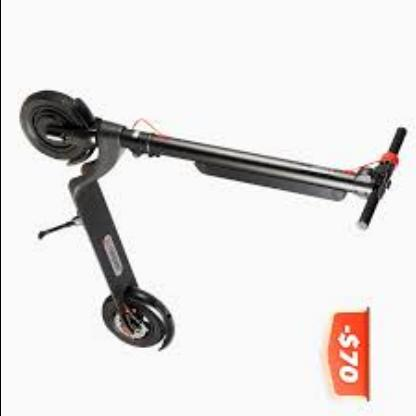bike: (20, 87, 413, 355)
